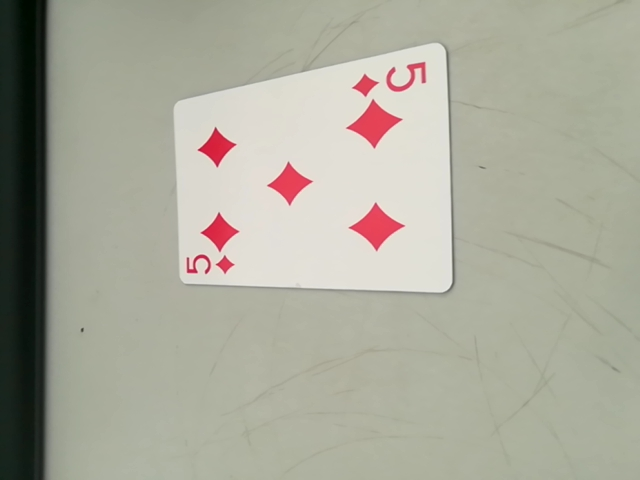fk 5: (352, 56, 431, 98), (183, 248, 240, 281)
